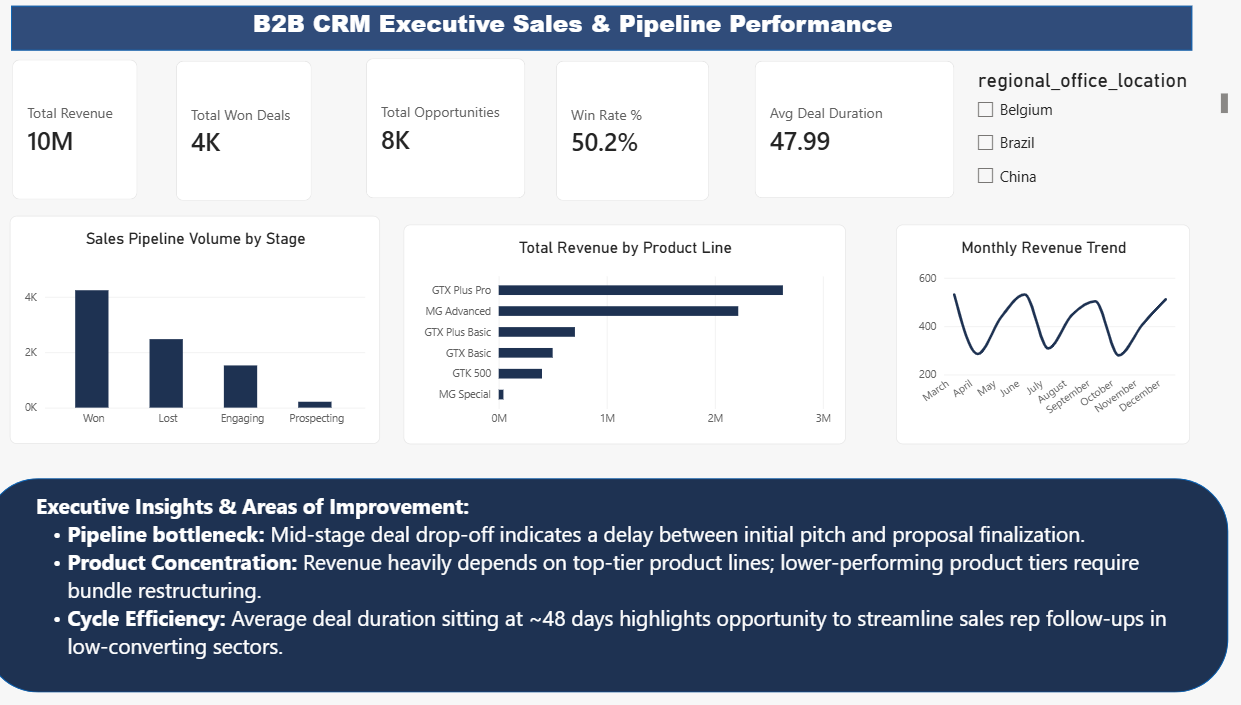

What the dashboard file says about the page in this screenshot:
{"tool":"powerbi","page":{"name":"Page 1","canvas":[1920,1080],"ordinal":0},"visuals":[{"type":"cardVisual","fields":{"Data":["_Measures.Total Revenue"]},"box":[46.7,71.1,143.3,160],"z":0},{"type":"cardVisual","fields":{"Data":["_Measures.Win Rate %"]},"box":[668.8,72.5,175,160],"z":1000},{"type":"cardVisual","fields":{"Data":["_Measures.Total Won Deals"]},"box":[233.8,72.5,155,160],"z":2000},{"type":"cardVisual","fields":{"Data":["_Measures.Total Opportunities"]},"box":[451.2,70,182.5,160],"z":3000},{"type":"cardVisual","fields":{"Data":["_Measures.Avg Deal Duration"]},"box":[896.2,72.5,228.8,157.5],"z":4000},{"type":"shape","box":[46.2,10,1350,51.2],"z":5000},{"type":"shape","box":[15,550,1421.2,245],"z":6000},{"type":"textbox","box":[32.5,10,1310,51.2],"z":7000},{"type":"clusteredColumnChart","title":"Sales Pipeline Volume by Stage","fields":{"Category":["sales_pipeline.deal_stage"],"Y":["CountNonNull(sales_pipeline.opportunity_id)"]},"box":[44.4,250,423.3,261.1],"z":8000},{"type":"clusteredBarChart","title":"Total Revenue by Product Line","fields":{"Category":["products_CRM.product"],"Y":["_Measures.Total Revenue"]},"box":[494.4,260,505.6,251.1],"z":9000},{"type":"lineChart","title":"Monthly Revenue Trend","fields":{"Category":["sales_pipeline.close_date.Variation.Date Hierarchy.Month","sales_pipeline.close_date.Variation.Date Hierarchy.Day"],"Y":["_Measures.Total Won Deals"]},"box":[1057.5,260,336.2,251.2],"z":10000},{"type":"slicer","fields":{"Values":["accounts_CRM.office_location"]},"box":[1142.5,81.2,293.8,143.8],"z":11000},{"type":"textbox","box":[73.8,566.2,1337.5,211.2],"z":12000}]}

Visuals, with their boxes in screenshot pixels (x1, y1, x2, y2), scaled from the page's 1920x1080 canvas onto the 1241x705 screenshot:
cardVisual - _Measures.Total Revenue: [30, 46, 123, 151]
cardVisual - _Measures.Win Rate %: [432, 47, 545, 152]
cardVisual - _Measures.Total Won Deals: [151, 47, 251, 152]
cardVisual - _Measures.Total Opportunities: [292, 46, 410, 150]
cardVisual - _Measures.Avg Deal Duration: [579, 47, 727, 150]
shape: [30, 7, 902, 40]
shape: [10, 359, 928, 519]
textbox: [21, 7, 868, 40]
"Sales Pipeline Volume by Stage" clusteredColumnChart: [29, 163, 302, 334]
"Total Revenue by Product Line" clusteredBarChart: [320, 170, 646, 334]
"Monthly Revenue Trend" lineChart: [684, 170, 901, 334]
slicer - accounts_CRM.office_location: [738, 53, 928, 147]
textbox: [48, 370, 912, 507]
